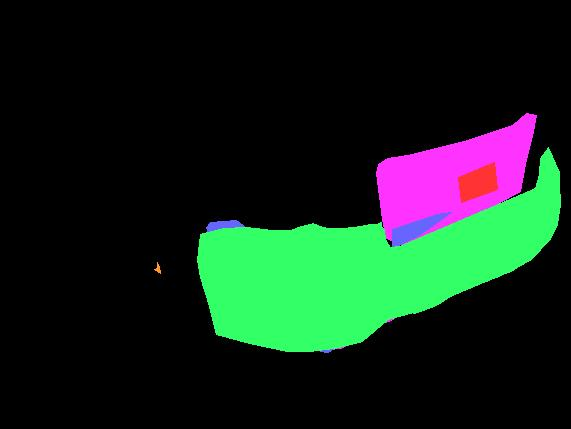Broken part: (197, 147, 560, 351), (413, 251, 538, 313), (341, 306, 409, 325), (312, 222, 381, 234)
Cracked: (342, 306, 402, 326), (344, 290, 362, 303), (536, 222, 549, 236)
Dent: (376, 113, 536, 246), (286, 298, 403, 349), (496, 218, 555, 263), (417, 241, 452, 290), (298, 263, 338, 305), (443, 260, 493, 291)
Missing part: (458, 162, 497, 202)
Paint chip: (492, 230, 509, 242), (154, 262, 160, 273), (492, 230, 494, 238)
Scratch: (303, 290, 416, 317), (275, 310, 339, 352), (392, 212, 451, 249), (206, 220, 244, 234), (314, 265, 341, 275), (535, 227, 552, 240), (529, 206, 546, 218), (433, 272, 444, 289), (305, 317, 319, 330), (524, 220, 543, 228), (475, 252, 482, 265), (368, 239, 381, 246), (306, 277, 318, 284), (320, 277, 329, 284)
